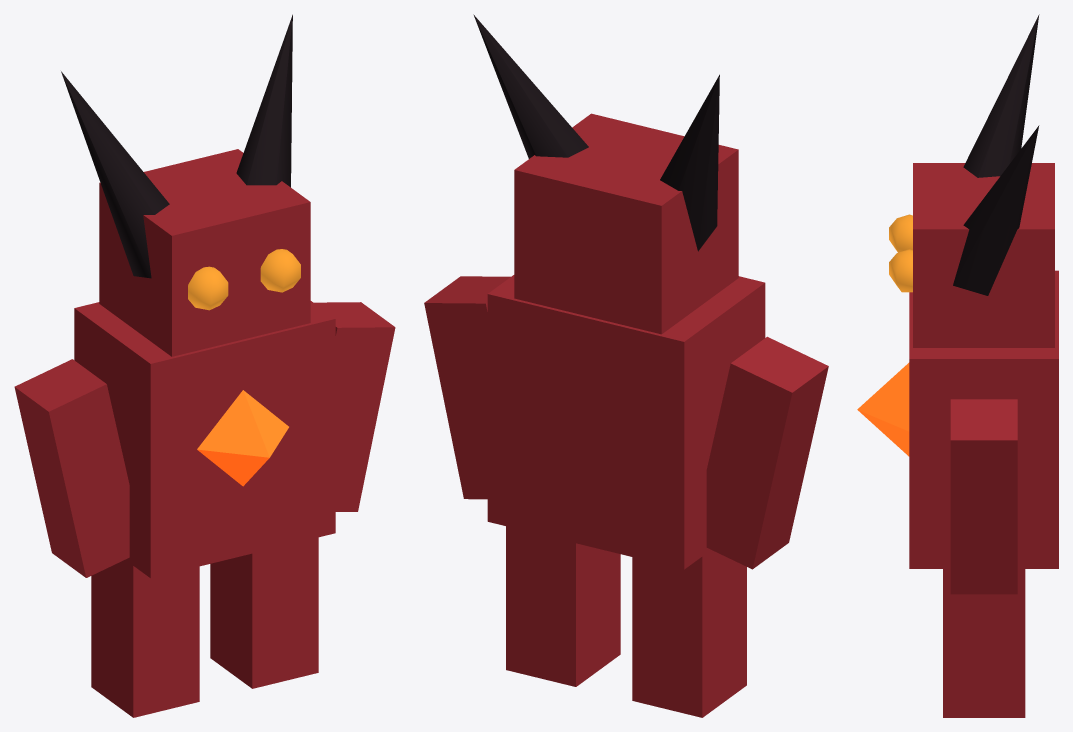
The model's file is demon.glb.
3 views of the same model, side by side, from view 1: azimuth 30°, elevation 25°; view 2: azimuth 150°, elevation 25°; view 3: azimuth 270°, elevation 25° (orthographic). The views are drawn at different scales.
Parts seen in each view (by area): view 1: enemy_demon; view 2: enemy_demon; view 3: enemy_demon.
Boxes of the visible parts, x1=… form: enemy_demon: x1=14, y1=14, x2=395, y2=717; enemy_demon: x1=424, y1=14, x2=828, y2=717; enemy_demon: x1=857, y1=14, x2=1058, y2=717.
Size of the model in its own units: 1.05 by 1.78 by 0.54.
